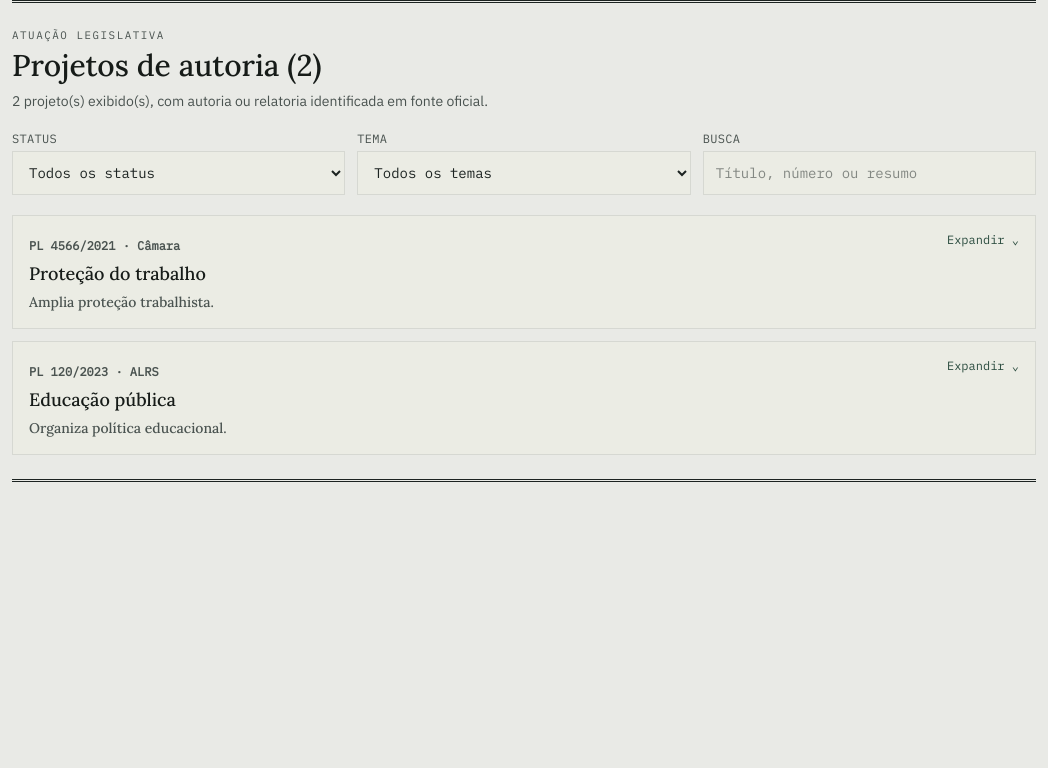
Test: CandidateAuthoredProjectsList › renderiza total, cartões recolhidos e expande o resumo detalhado
Expected: the heading "Projetos de autoria (2)" is shown, x1=12 y1=46 x2=322 y2=84
Expected: the text "Amplia proteção trabalhista." is shown, x1=29 y1=292 x2=214 y2=312
Click the button "Proteção do trabalho". click: (159, 246)
box: x1=13 y1=216 x2=1035 y2=328
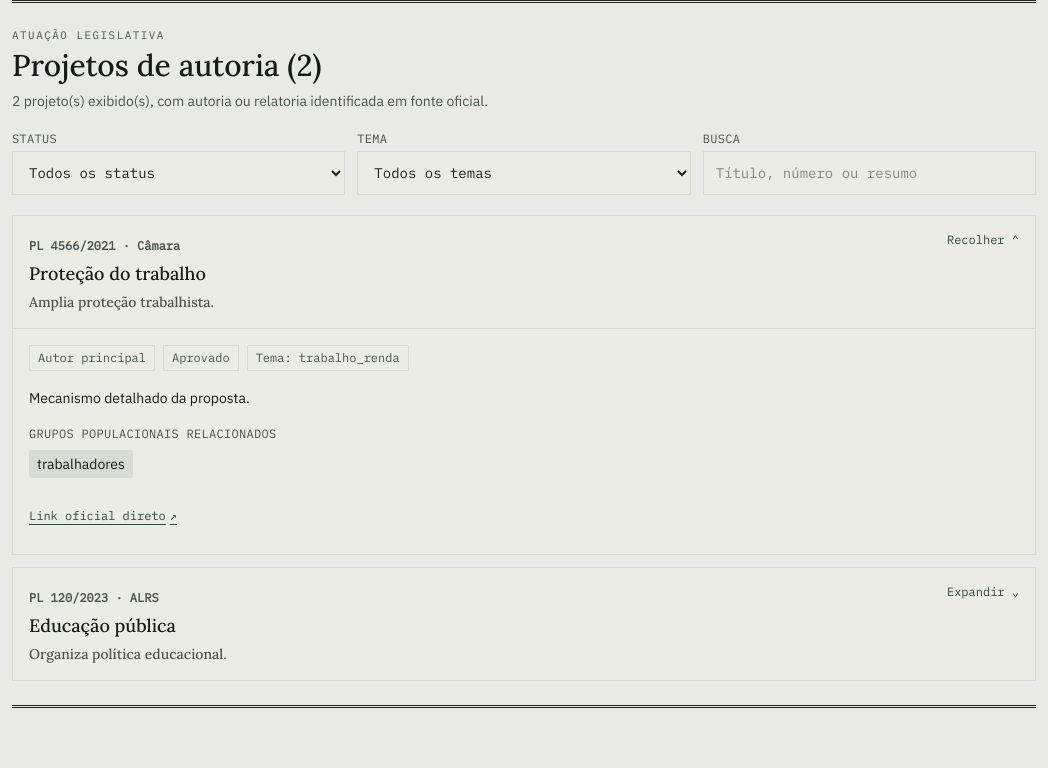
Expected: the text "Mecanismo detalhado da proposta." is shown, x1=29 y1=389 x2=250 y2=407
